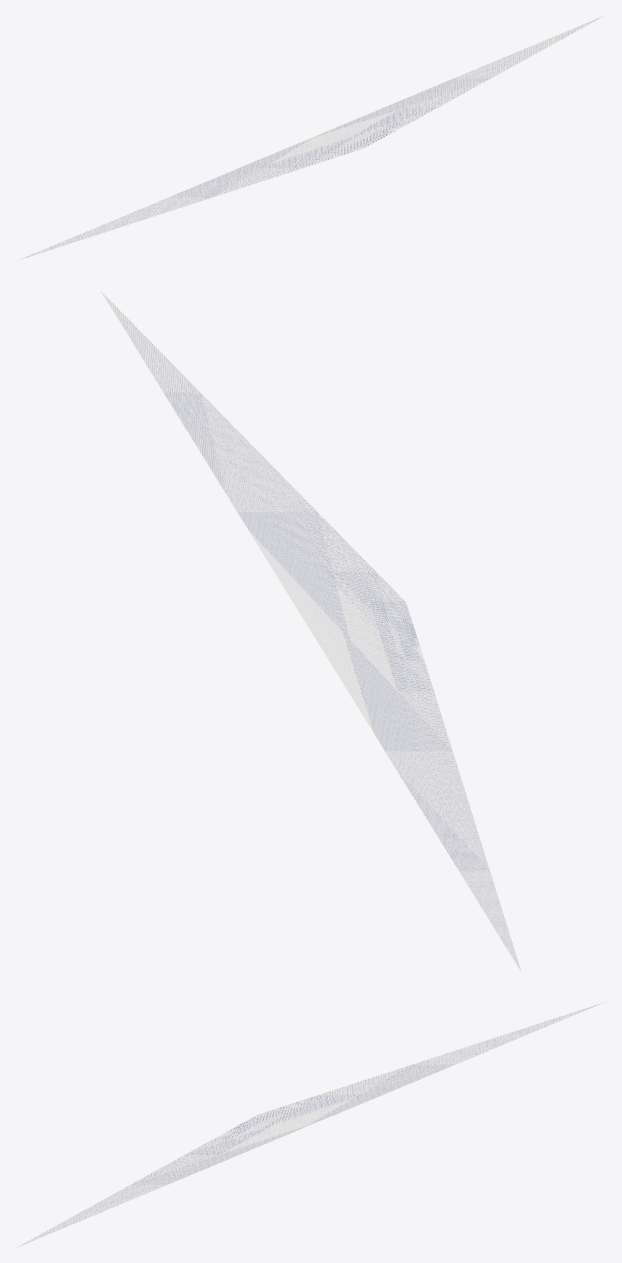
The model's file is puddle.dae.
3 renders of one model, top to bottom at view 1: azimuth 90°, elevation 25°; view 2: azimuth 150°, elevation 25°; view 3: azimuth 270°, elevation 25°, orthographic. The views are drawn at different scales.
Visible parts, largest first — view 1: SketchUp; view 2: SketchUp; view 3: SketchUp.
Part boxes in pixels (<box>): SketchUp: <box>15,15,605,261</box>; SketchUp: <box>101,291,521,971</box>; SketchUp: <box>16,1001,606,1247</box>.
Size of what is drawn, in the model's own units: 0.2534 by 0.2567 by 0.
